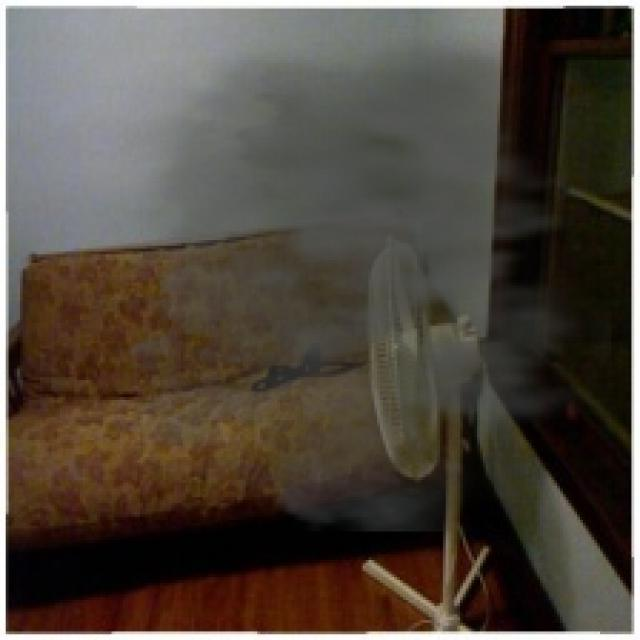Smoke: (59, 17, 612, 532)
